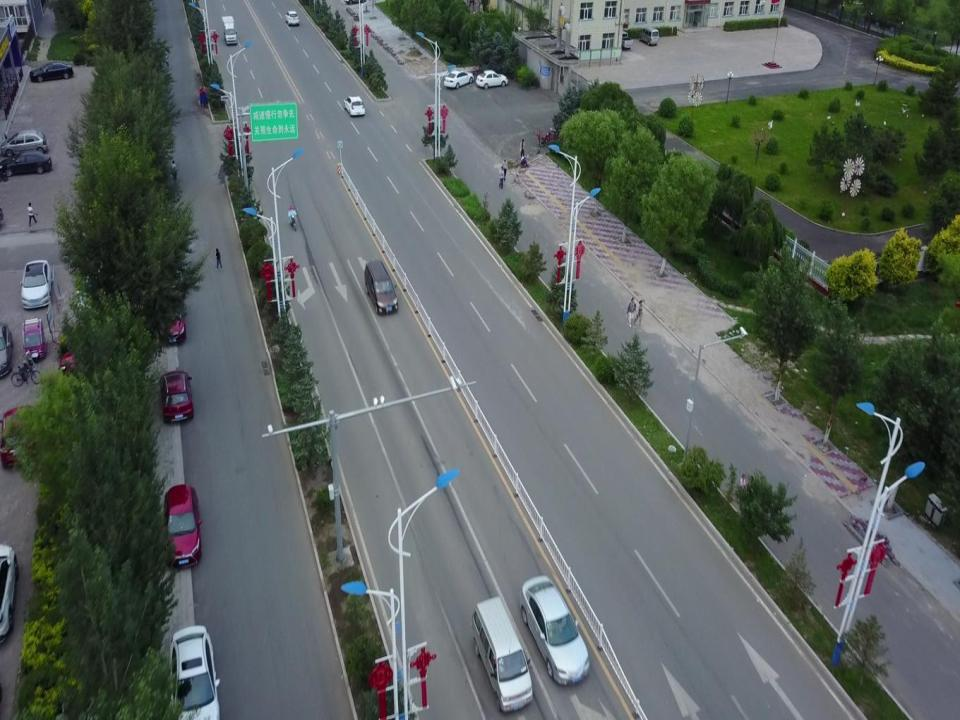car: (516, 576, 592, 684), (169, 627, 223, 720), (158, 483, 201, 568), (0, 401, 37, 469), (366, 254, 398, 314), (20, 259, 52, 308), (162, 372, 194, 420), (4, 150, 51, 175), (2, 130, 50, 154), (34, 60, 74, 81), (477, 68, 509, 88), (444, 68, 472, 89), (343, 94, 367, 118), (284, 7, 301, 26)
truck: (222, 11, 240, 46)
van: (468, 598, 530, 710)
